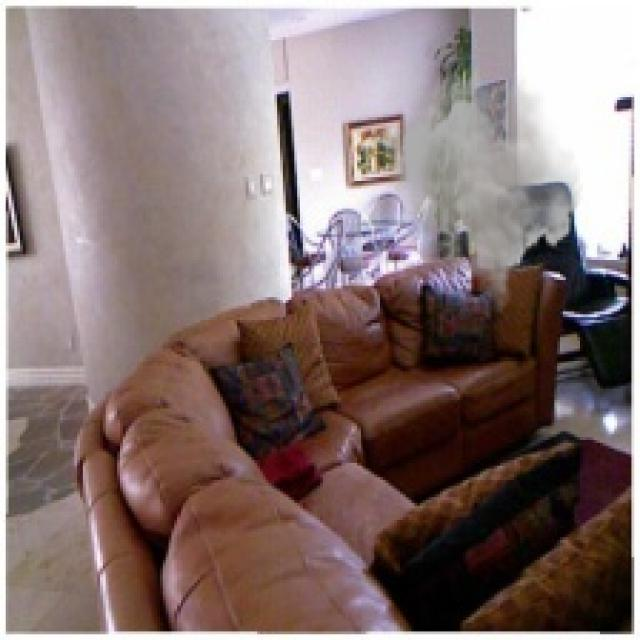smoke: (363, 66, 583, 317)
